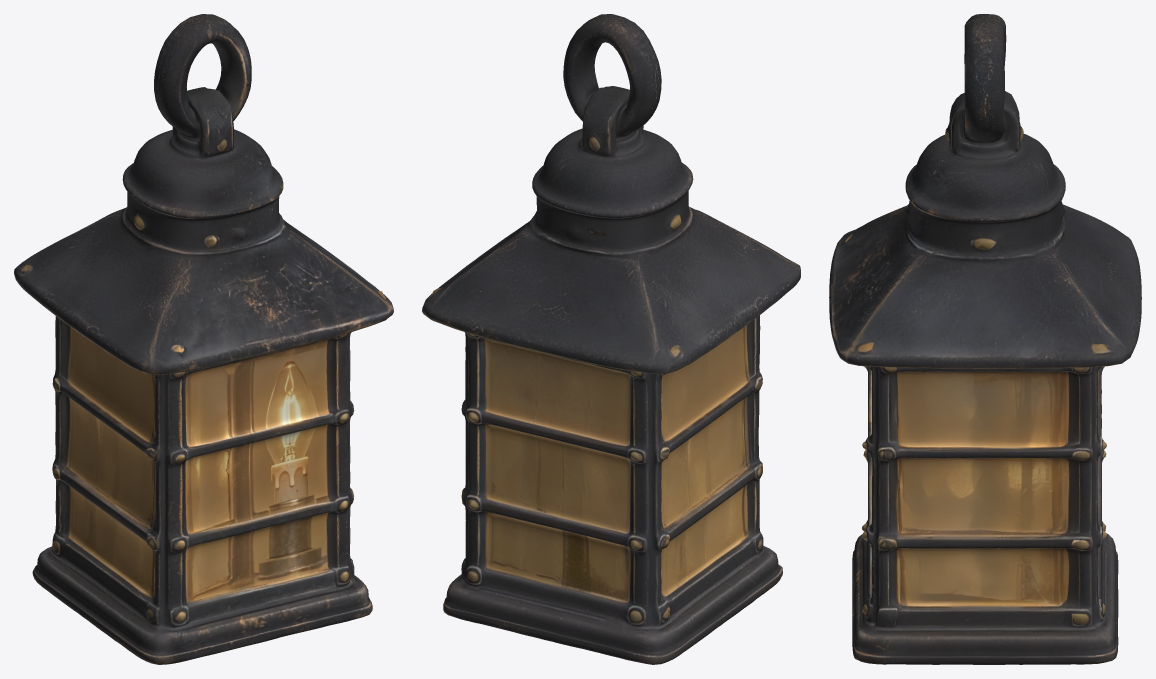
Rendered from kiosk-lantern-v165.glb.
3 views of the same model, side by side, from view 1: azimuth 30°, elevation 25°; view 2: azimuth 150°, elevation 25°; view 3: azimuth 270°, elevation 25° (orthographic). The views are drawn at different scales.
Visible parts, largest first — view 1: model; view 2: model; view 3: model.
Part boxes in pixels (x1,y1,x2,y2): model: (14, 14, 393, 664); model: (422, 14, 800, 664); model: (829, 14, 1141, 664).
Size of the model in its own units: 0.345 by 0.72 by 0.3454.
Materials: 1 (1 with a texture image).
